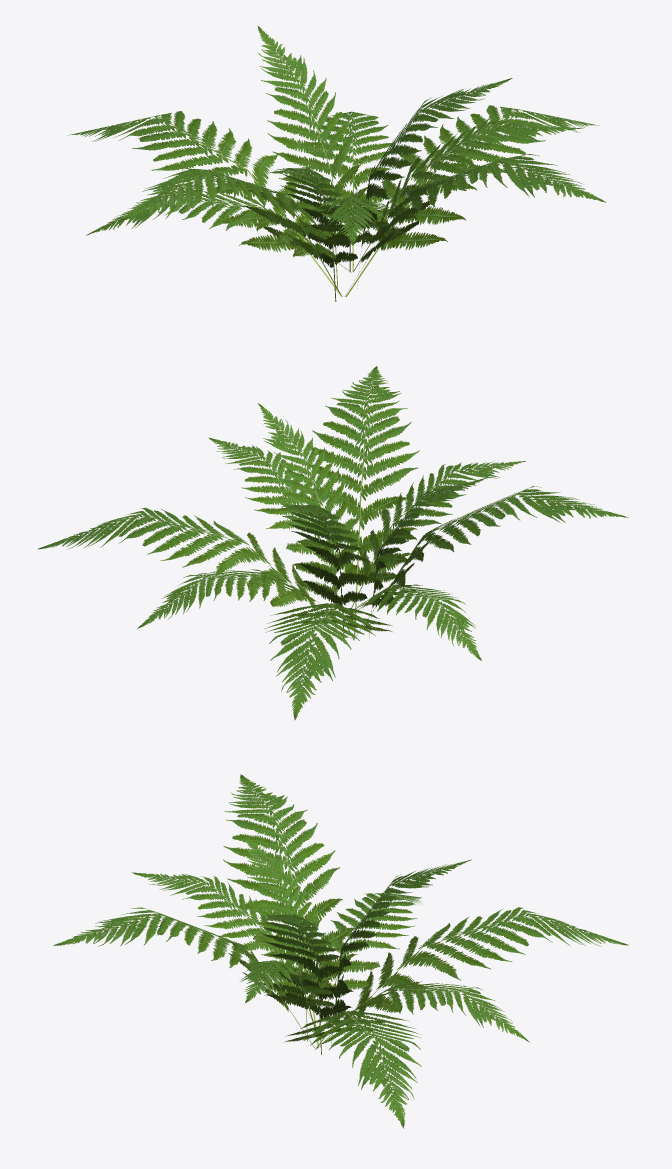
Rendered from Fern_01.FBX.
The picture shows the model from 3 angles, top to bottom: view 1: azimuth 30°, elevation 25°; view 2: azimuth 150°, elevation 25°; view 3: azimuth 270°, elevation 25°; orthographic projection. The views are drawn at different scales.
Visible parts, largest first — view 1: Fern_01; view 2: Fern_01; view 3: Fern_01.
Boxes of the visible parts, bbox=[...] form: Fern_01: bbox=[68, 25, 606, 301]; Fern_01: bbox=[37, 366, 628, 720]; Fern_01: bbox=[53, 774, 628, 1128].
Bounding box in the file's own units: 5.3 × 1.82 × 5.2.
